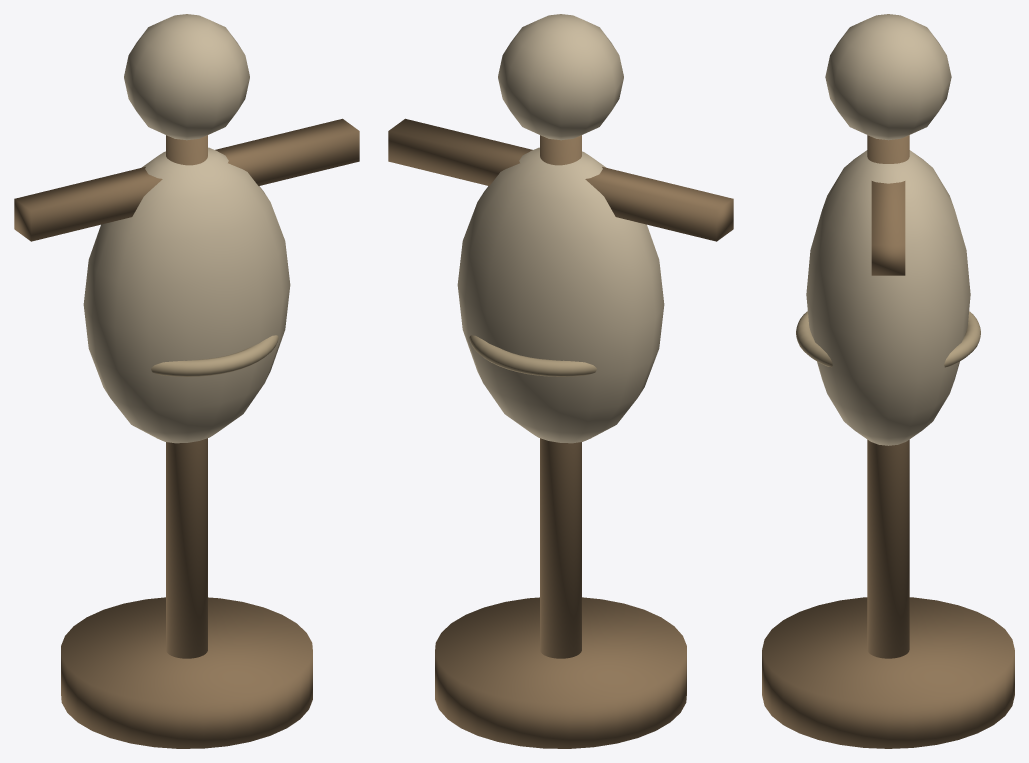
The model's file is dummy.926c257c.glb.
The picture shows the model from 3 angles, left to right: view 1: azimuth 30°, elevation 25°; view 2: azimuth 150°, elevation 25°; view 3: azimuth 270°, elevation 25°; orthographic projection.
Parts seen in each view (by area): view 1: dummy; view 2: dummy; view 3: dummy.
Boxes of the visible parts, left/top/right/bottom form: dummy: left=14, top=14, right=359, bottom=748; dummy: left=388, top=14, right=733, bottom=748; dummy: left=762, top=14, right=1014, bottom=748.
Bounding box in the file's own units: 0.9 × 1.77 × 0.6001.
